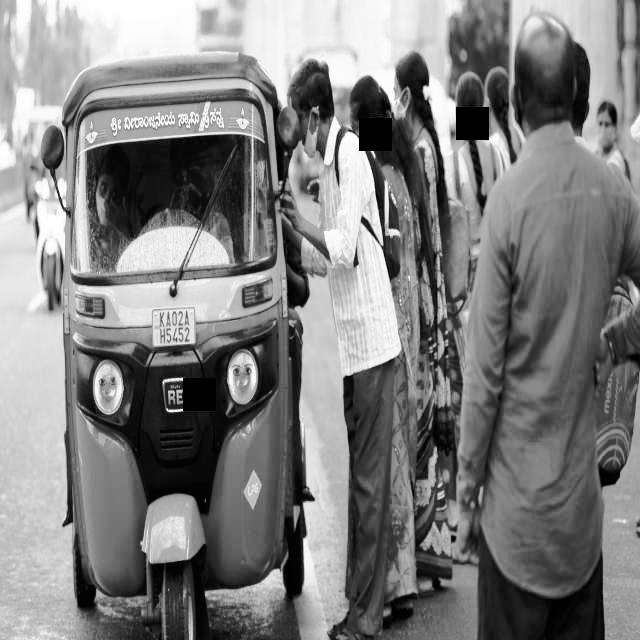Auto-Rickshaw: (46, 51, 313, 629)
